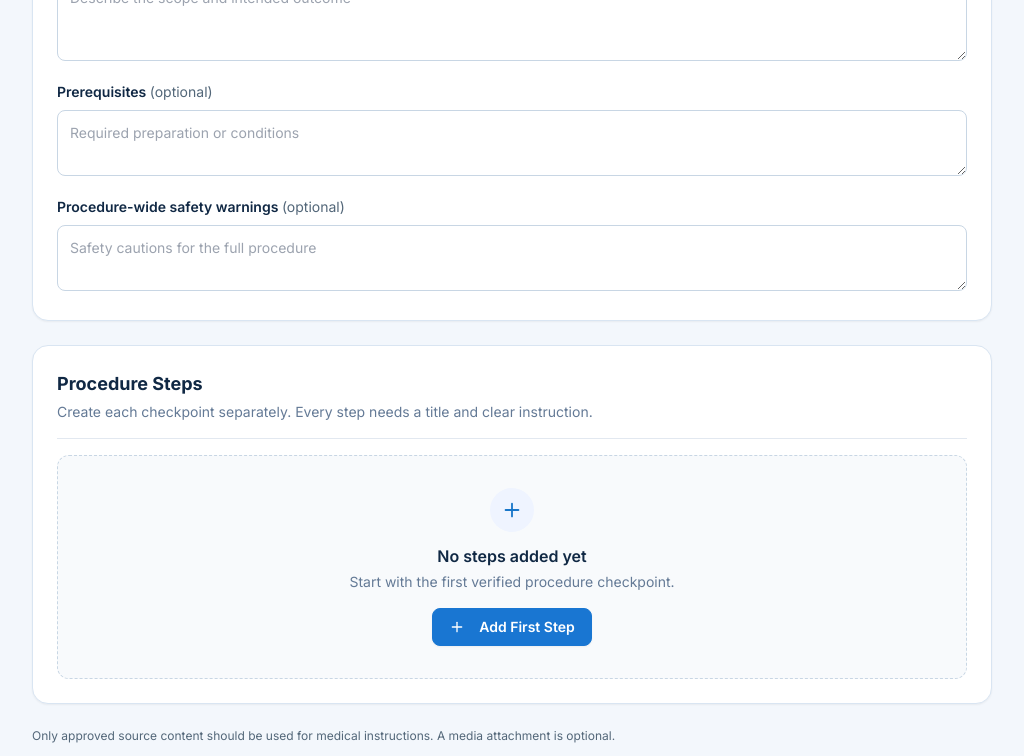
it: procedure step removal › requires confirmation before removing a step and preserves it on cancel
This screenshot has width=1024, height=756.
(page scrolled)
Step 1. Click the button "Add First Step" → (512, 626), box [432,608,592,646]
(page scrolled)
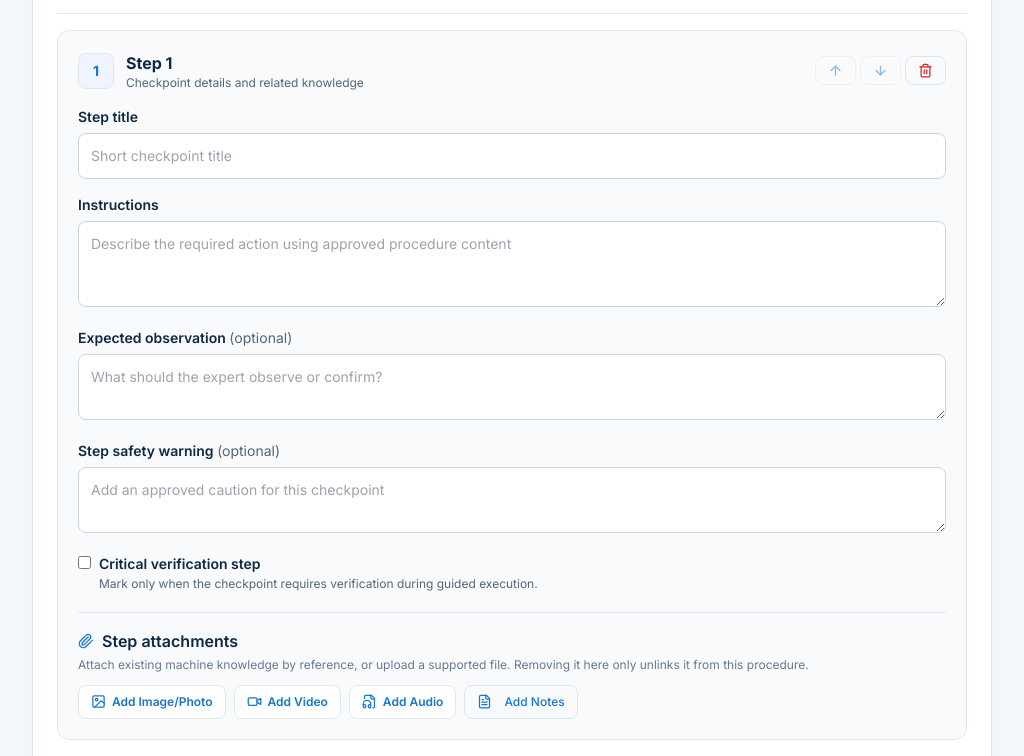
Step 2. Type "Step 1 To Remove" into the field labelled "Step title" → (512, 156), box [78,132,946,178]
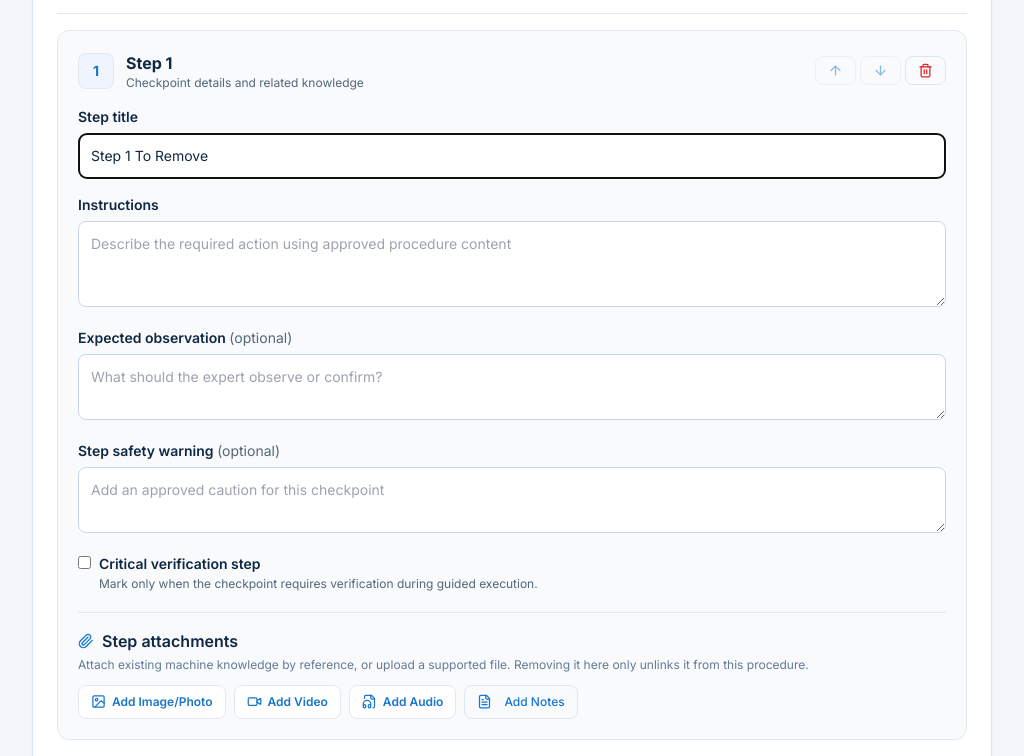
Step 3. Click the button named "Remove Step 1" → (926, 70), box [905,56,946,85]
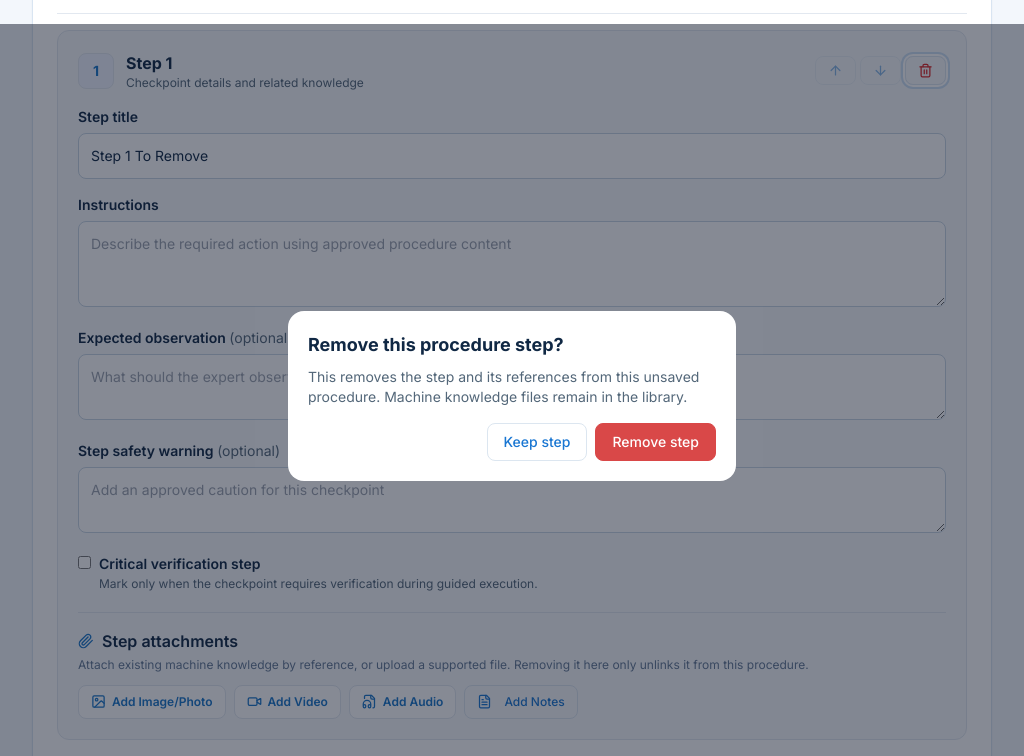
Result: the dialog shows "Remove this procedure step?" at [308,334,564,355]
Step 4. Click the button "Keep step" → (537, 442), box [486,423,588,461]
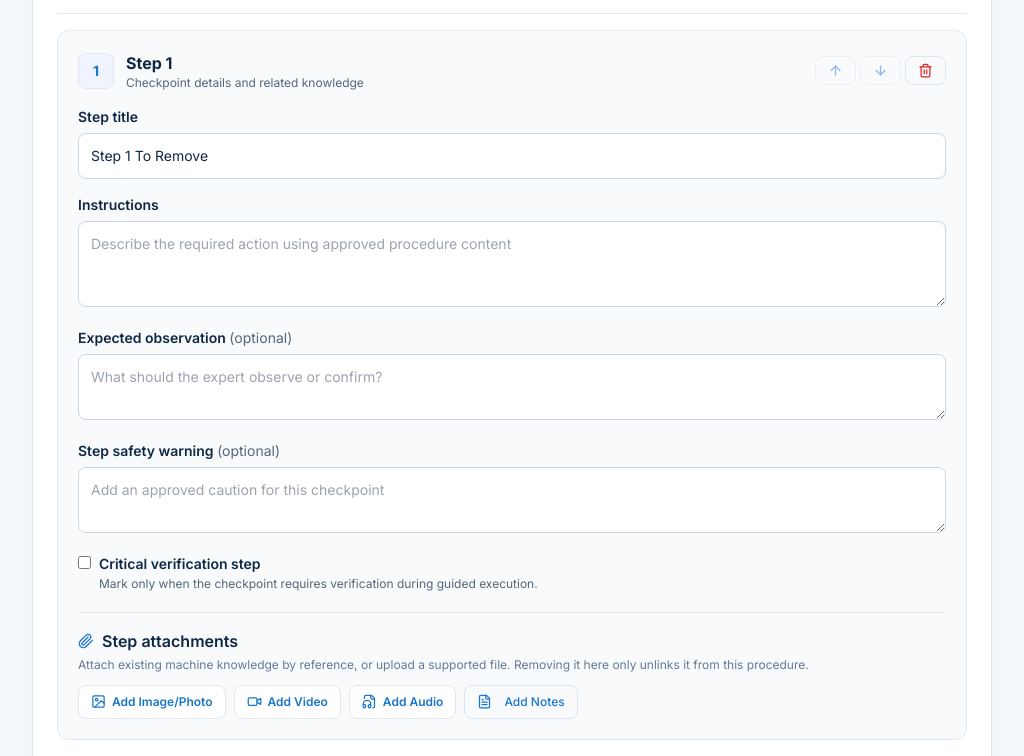
Step 5. Click the button named "Remove Step 1" → (926, 70), box [905,56,946,85]
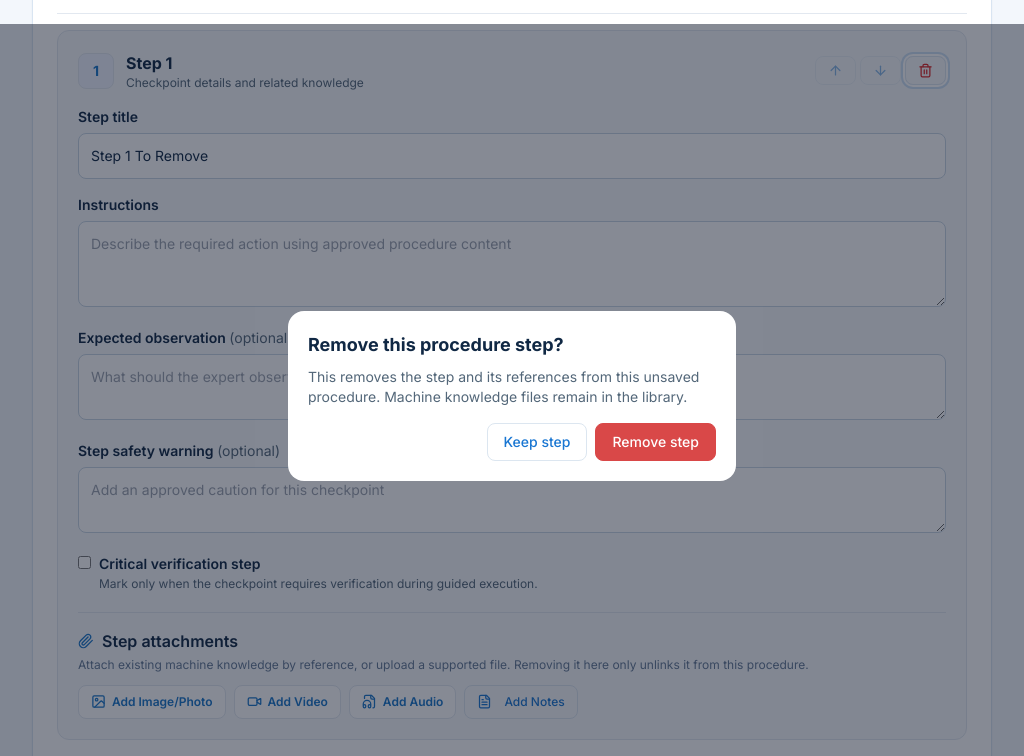
Step 6. Click the button "Remove step" → (656, 442), box [596,423,716,461]
(page scrolled)
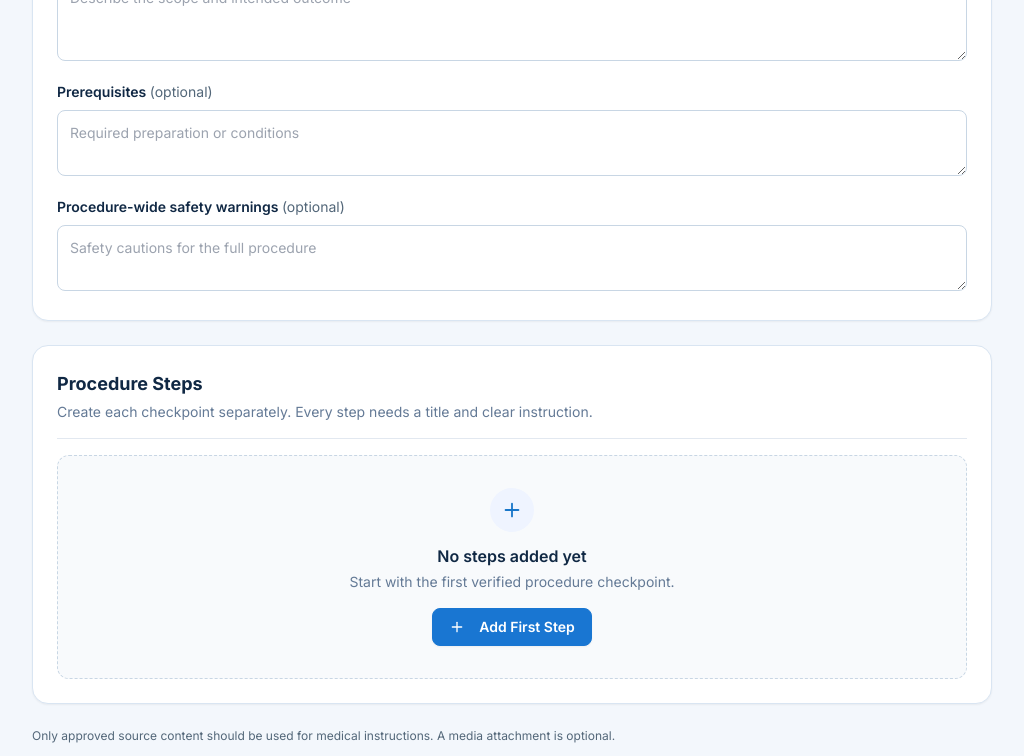
Expected: the field showing "Step 1 To Remove" is not shown
Result: the button "Add First Step" is shown at [432,608,592,646]
